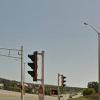Traffic light: (26, 45, 67, 94)
